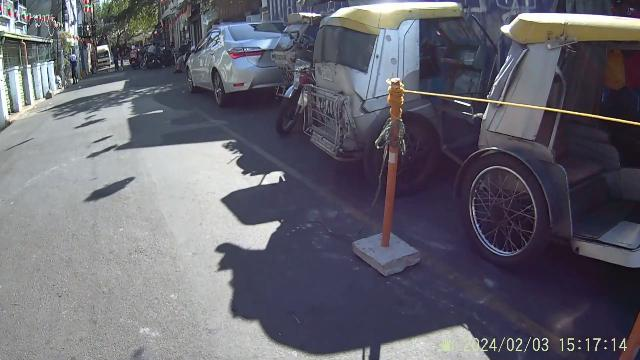car: (182, 26, 292, 99)
tricycle: (468, 5, 640, 272), (277, 13, 468, 176)
